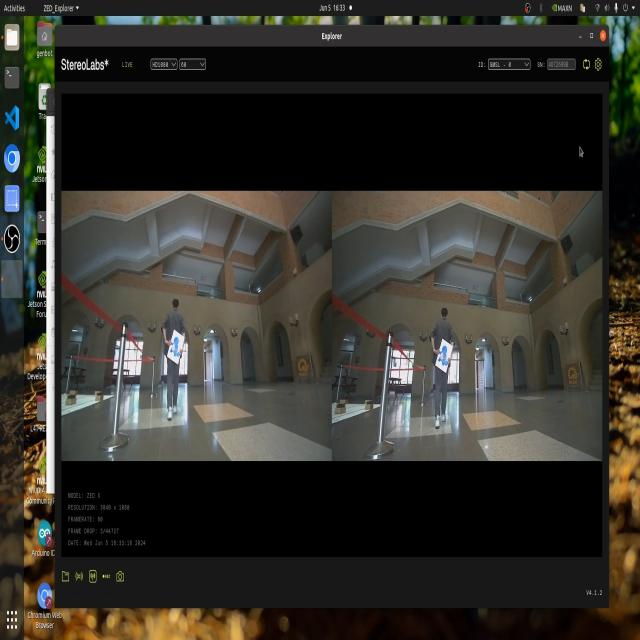blue: (434, 343, 458, 375), (170, 333, 182, 365)
